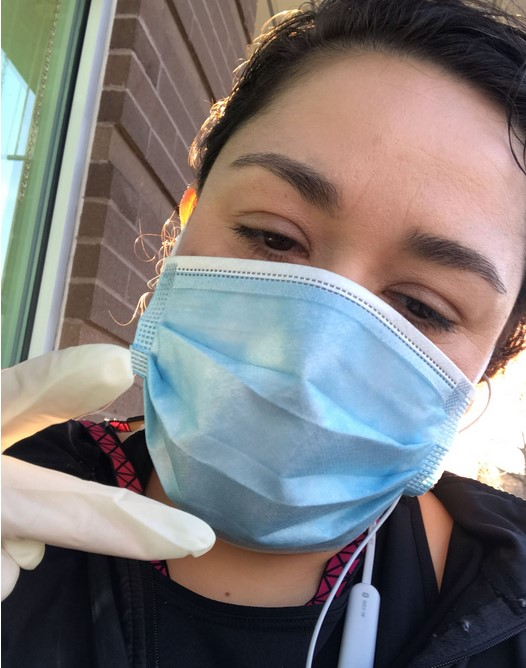face_with_mask: (128, 1, 521, 551)
